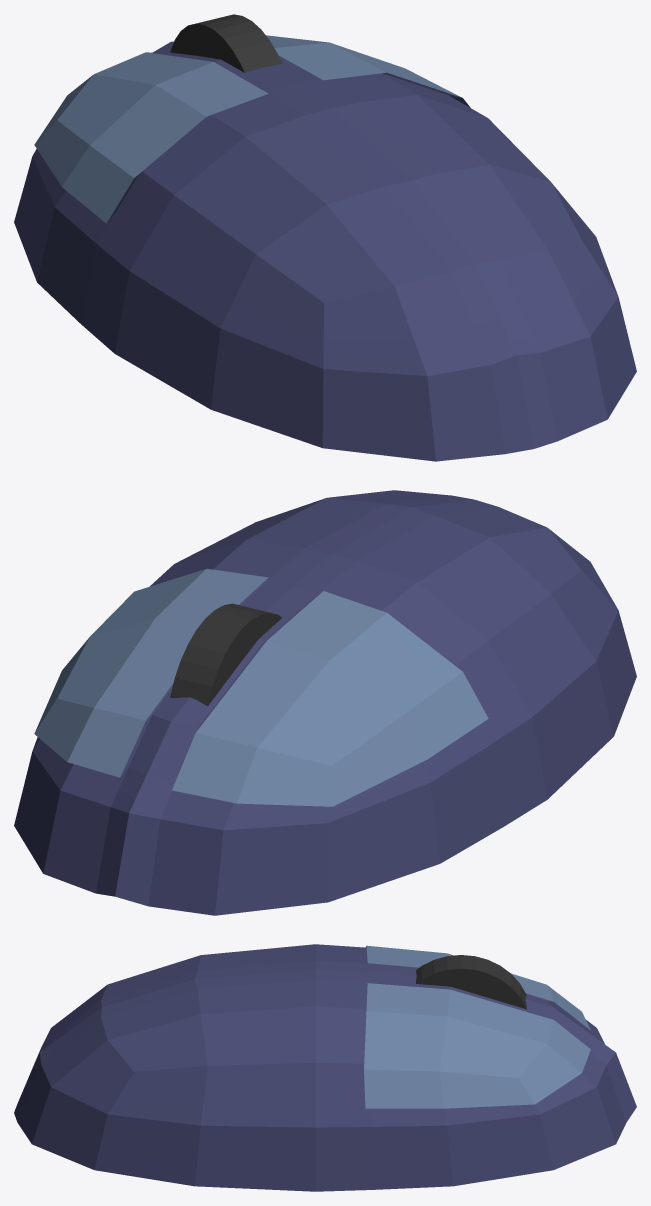
Rendered from mouse.fbx.
3 views of the same model, one above another, from view 1: azimuth 30°, elevation 25°; view 2: azimuth 150°, elevation 25°; view 3: azimuth 270°, elevation 25° (orthographic). The views are drawn at different scales.
Parts seen in each view (by area): view 1: Cube; view 2: Cube; view 3: Cube.
Boxes of the visible parts, box(x1,y1,x2,y2) form: Cube: box(14, 14, 636, 461); Cube: box(14, 490, 636, 915); Cube: box(14, 944, 636, 1191).
Size of the model in its own units: 348 by 157 by 584.
